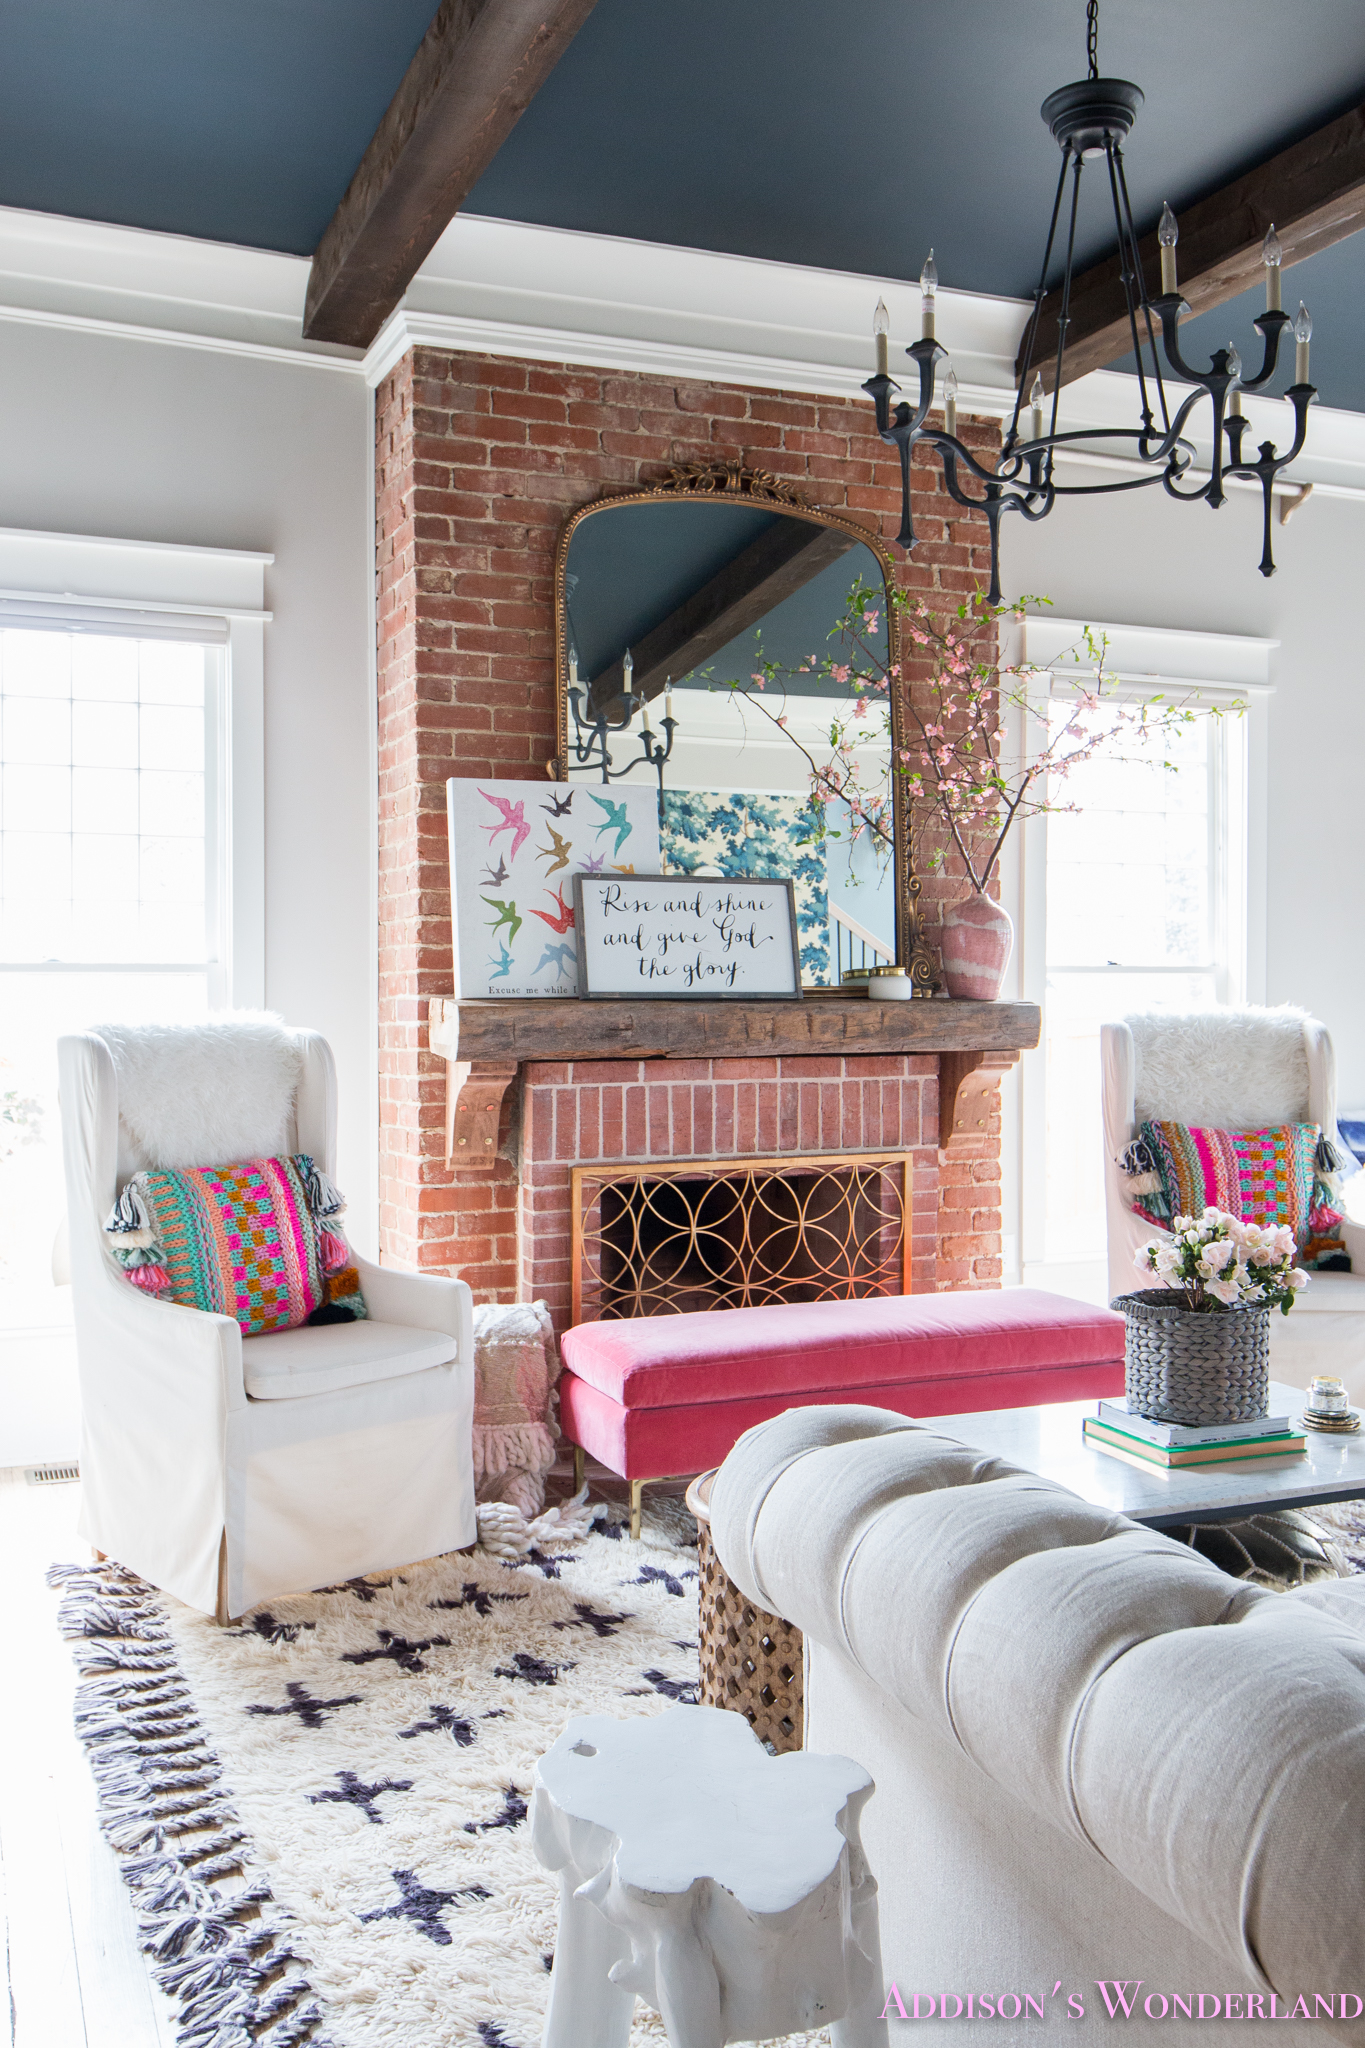pink: (562, 1313, 1124, 1405)
putih: (751, 1427, 1365, 2048), (56, 1022, 475, 1581), (532, 1692, 890, 2048), (1101, 1010, 1365, 1369)
